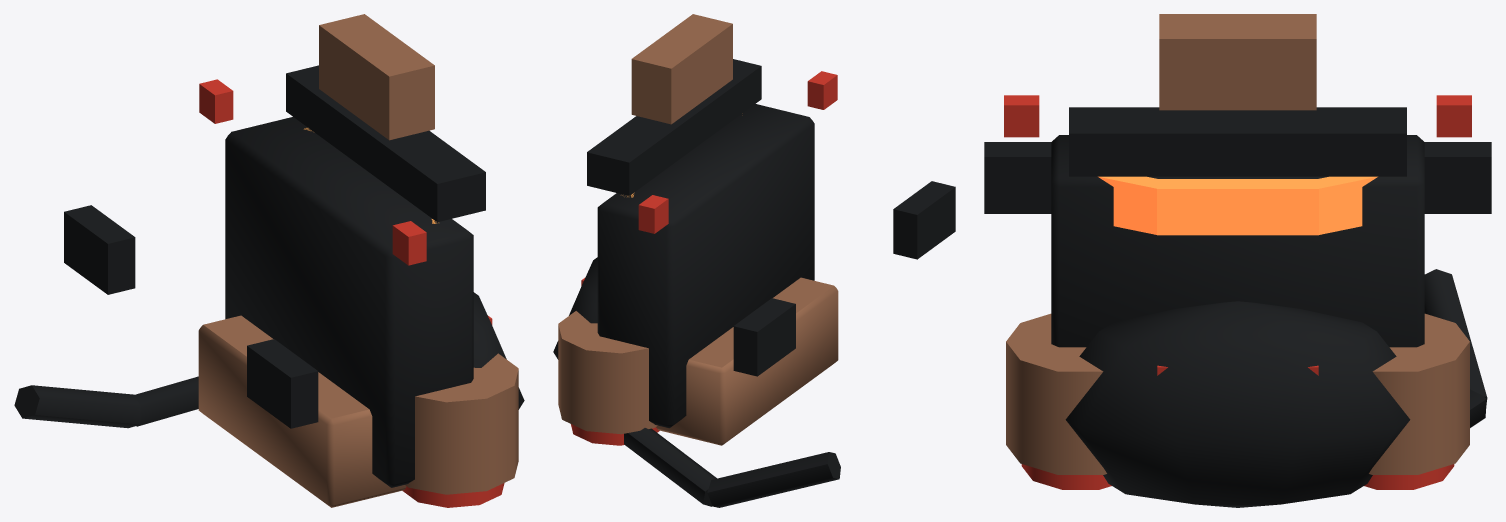
Rendered from incinerador_mascara.glb.
3 views of the same model, side by side, from view 1: azimuth 30°, elevation 25°; view 2: azimuth 150°, elevation 25°; view 3: azimuth 270°, elevation 25° (orthographic). The views are drawn at different scales.
Parts seen in each view (by area): view 1: incinerador_mascara; view 2: incinerador_mascara; view 3: incinerador_mascara.
Part boxes in pixels (x1,y1,x2,y2): incinerador_mascara: (14, 14, 524, 507); incinerador_mascara: (553, 14, 955, 507); incinerador_mascara: (984, 14, 1491, 507).
Bounding box in the file's own units: 0.2433 × 0.2658 × 0.258.
